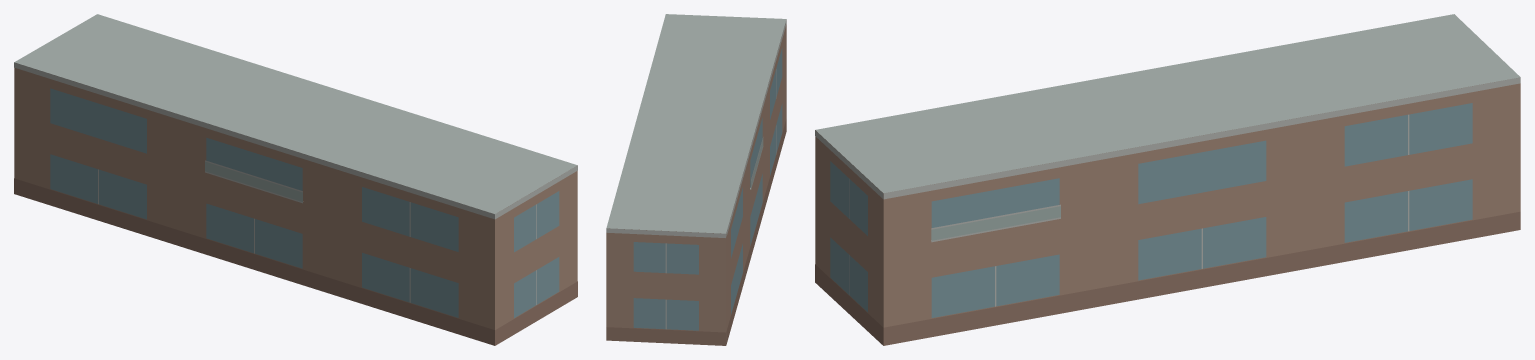
Rendered from survey-upis-32926059.glb.
The picture shows the model from 3 angles, left to right: view 1: azimuth 30°, elevation 25°; view 2: azimuth 150°, elevation 25°; view 3: azimuth 270°, elevation 25°; orthographic projection. The views are drawn at different scales.
Visible parts, largest first — view 1: survey-upis-32926059.tmp; view 2: survey-upis-32926059.tmp; view 3: survey-upis-32926059.tmp.
Part boxes in pixels (x1,y1,x2,y2): survey-upis-32926059.tmp: (14, 14, 577, 345); survey-upis-32926059.tmp: (606, 14, 786, 345); survey-upis-32926059.tmp: (815, 14, 1520, 345).
Bounding box in the file's own units: 15.39 × 6.1 × 25.58.
